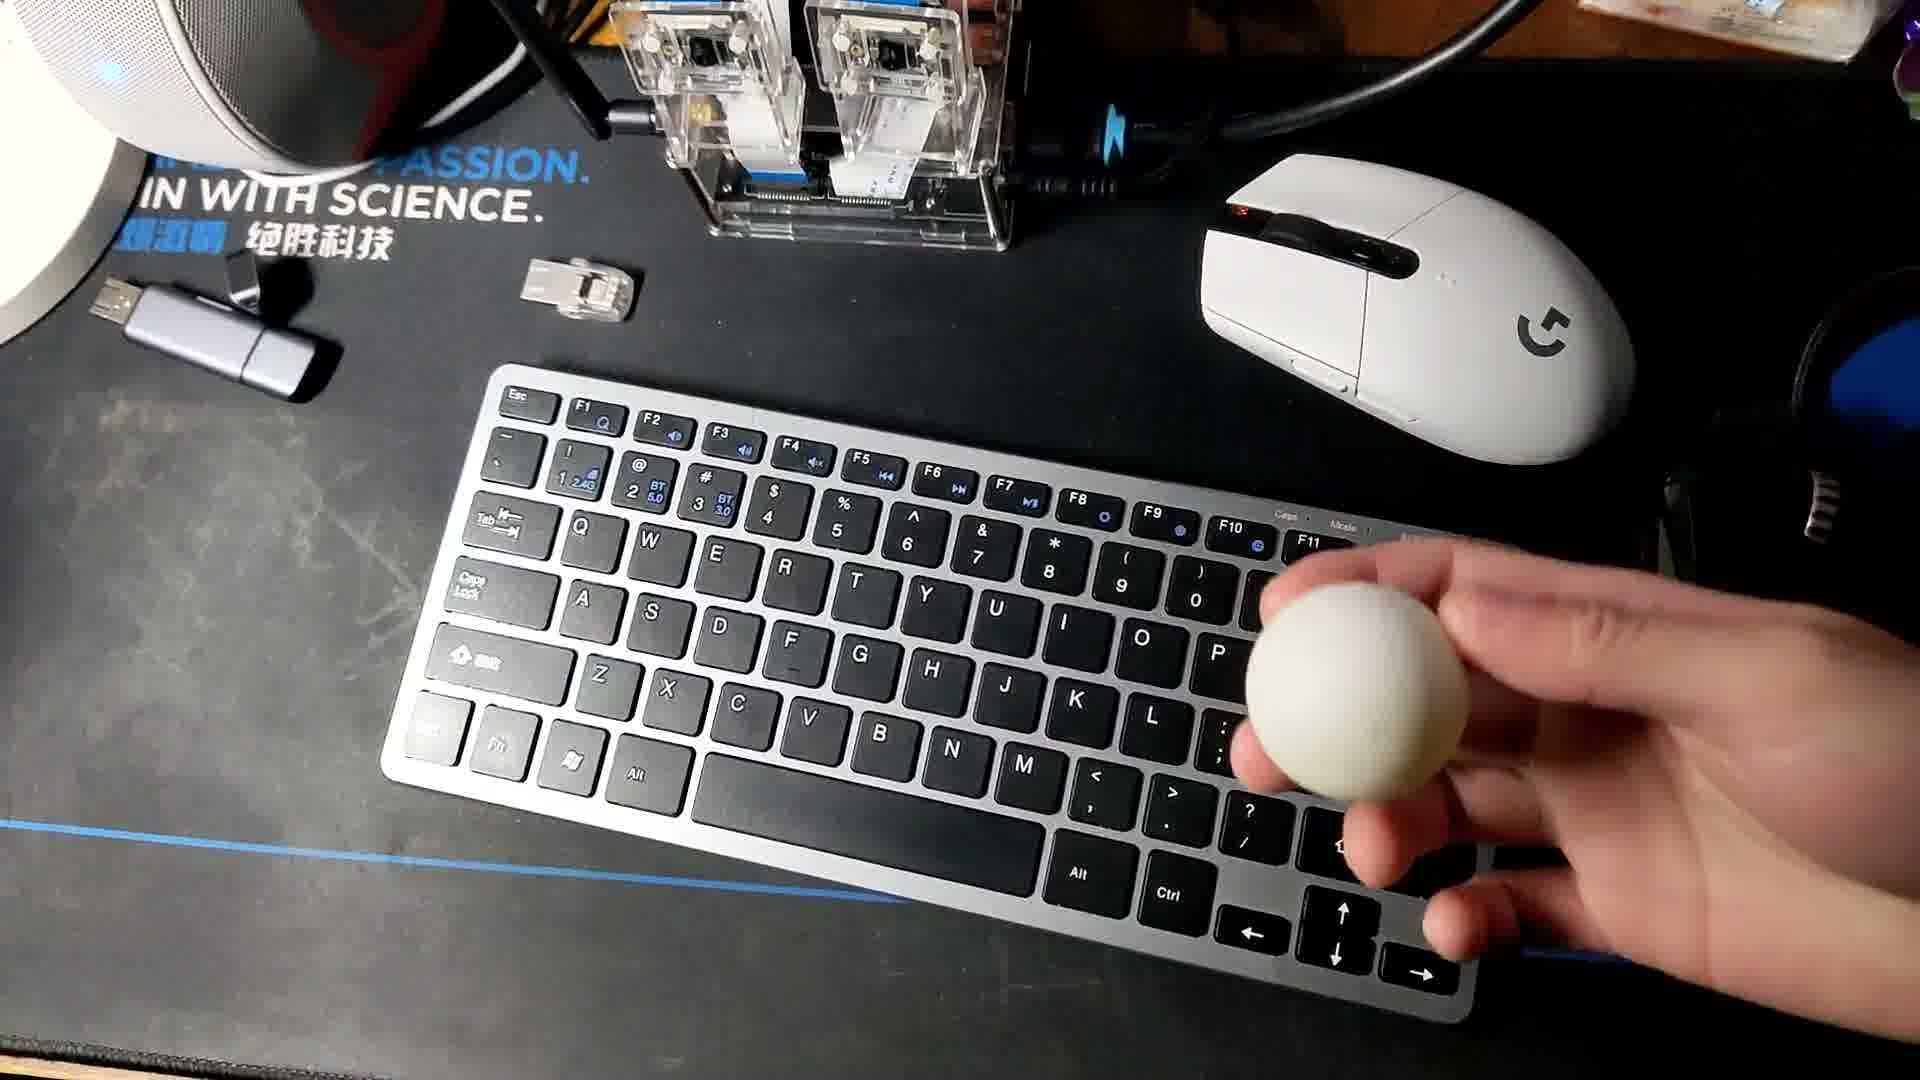Ball: (1244, 580, 1473, 814)
